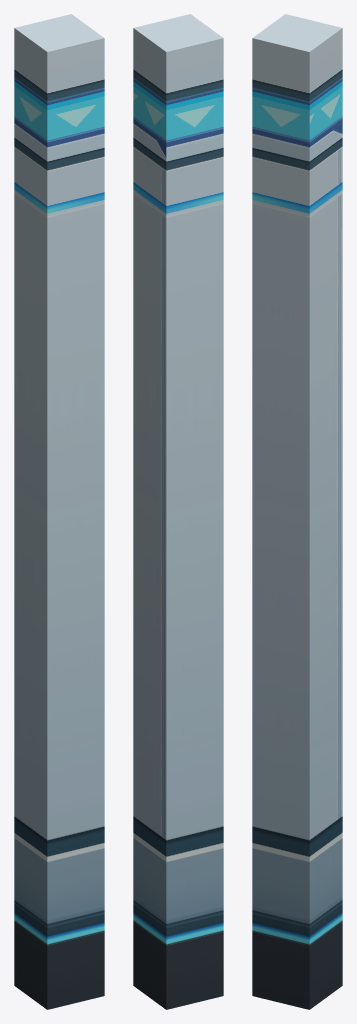
File: my_millenniumlounge_01_wall_side.glb
3 views of the same model, side by side, from view 1: azimuth 30°, elevation 25°; view 2: azimuth 210°, elevation 25°; view 3: azimuth 330°, elevation 25° (orthographic).
Visible parts, largest first — view 1: my_millenniumlounge_01_wall_side; view 2: my_millenniumlounge_01_wall_side; view 3: my_millenniumlounge_01_wall_side.
Boxes of the visible parts, <box> form: my_millenniumlounge_01_wall_side: <box>14,14,104,1009</box>; my_millenniumlounge_01_wall_side: <box>133,14,223,1009</box>; my_millenniumlounge_01_wall_side: <box>252,14,342,1009</box>.
Size of the model in its own units: 0.003 by 0.048 by 0.003.
Materials: 2 (2 with a texture image).
